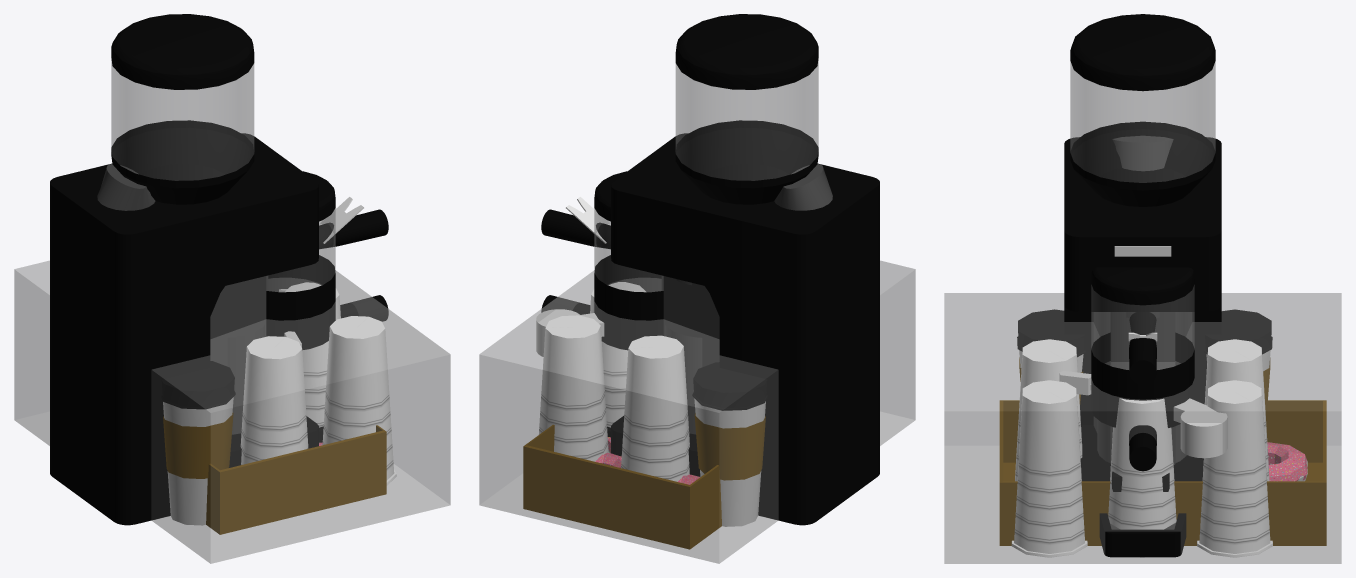
File: StreetFood.fbx
3 renders of one model, left to right at view 1: azimuth 30°, elevation 25°; view 2: azimuth 150°, elevation 25°; view 3: azimuth 270°, elevation 25°, orthographic.
Visible parts, largest first — view 1: donut1, coffee02, coffee_mec02, Coffee_cup; view 2: donut1, coffee02, coffee_mec02, Coffee_cup; view 3: donut1, coffee_mec02, Coffee_cup, coffee02.
Part boxes in pixels (x1=…): donut1: x1=14, y1=260, x2=450, y2=563; coffee02: x1=50, y1=133, x2=388, y2=525; coffee_mec02: x1=111, y1=14, x2=335, y2=442; Coffee_cup: x1=161, y1=282, x2=396, y2=525; donut1: x1=479, y1=260, x2=915, y2=563; coffee02: x1=541, y1=133, x2=879, y2=525; coffee_mec02: x1=536, y1=14, x2=818, y2=437; Coffee_cup: x1=539, y1=282, x2=767, y2=526; donut1: x1=944, y1=293, x2=1341, y2=563; coffee_mec02: x1=1059, y1=14, x2=1227, y2=557; Coffee_cup: x1=1011, y1=309, x2=1272, y2=557; coffee02: x1=1064, y1=135, x2=1221, y2=481.
Bounding box in the file's own units: 41.05 × 56.95 × 46.72.
